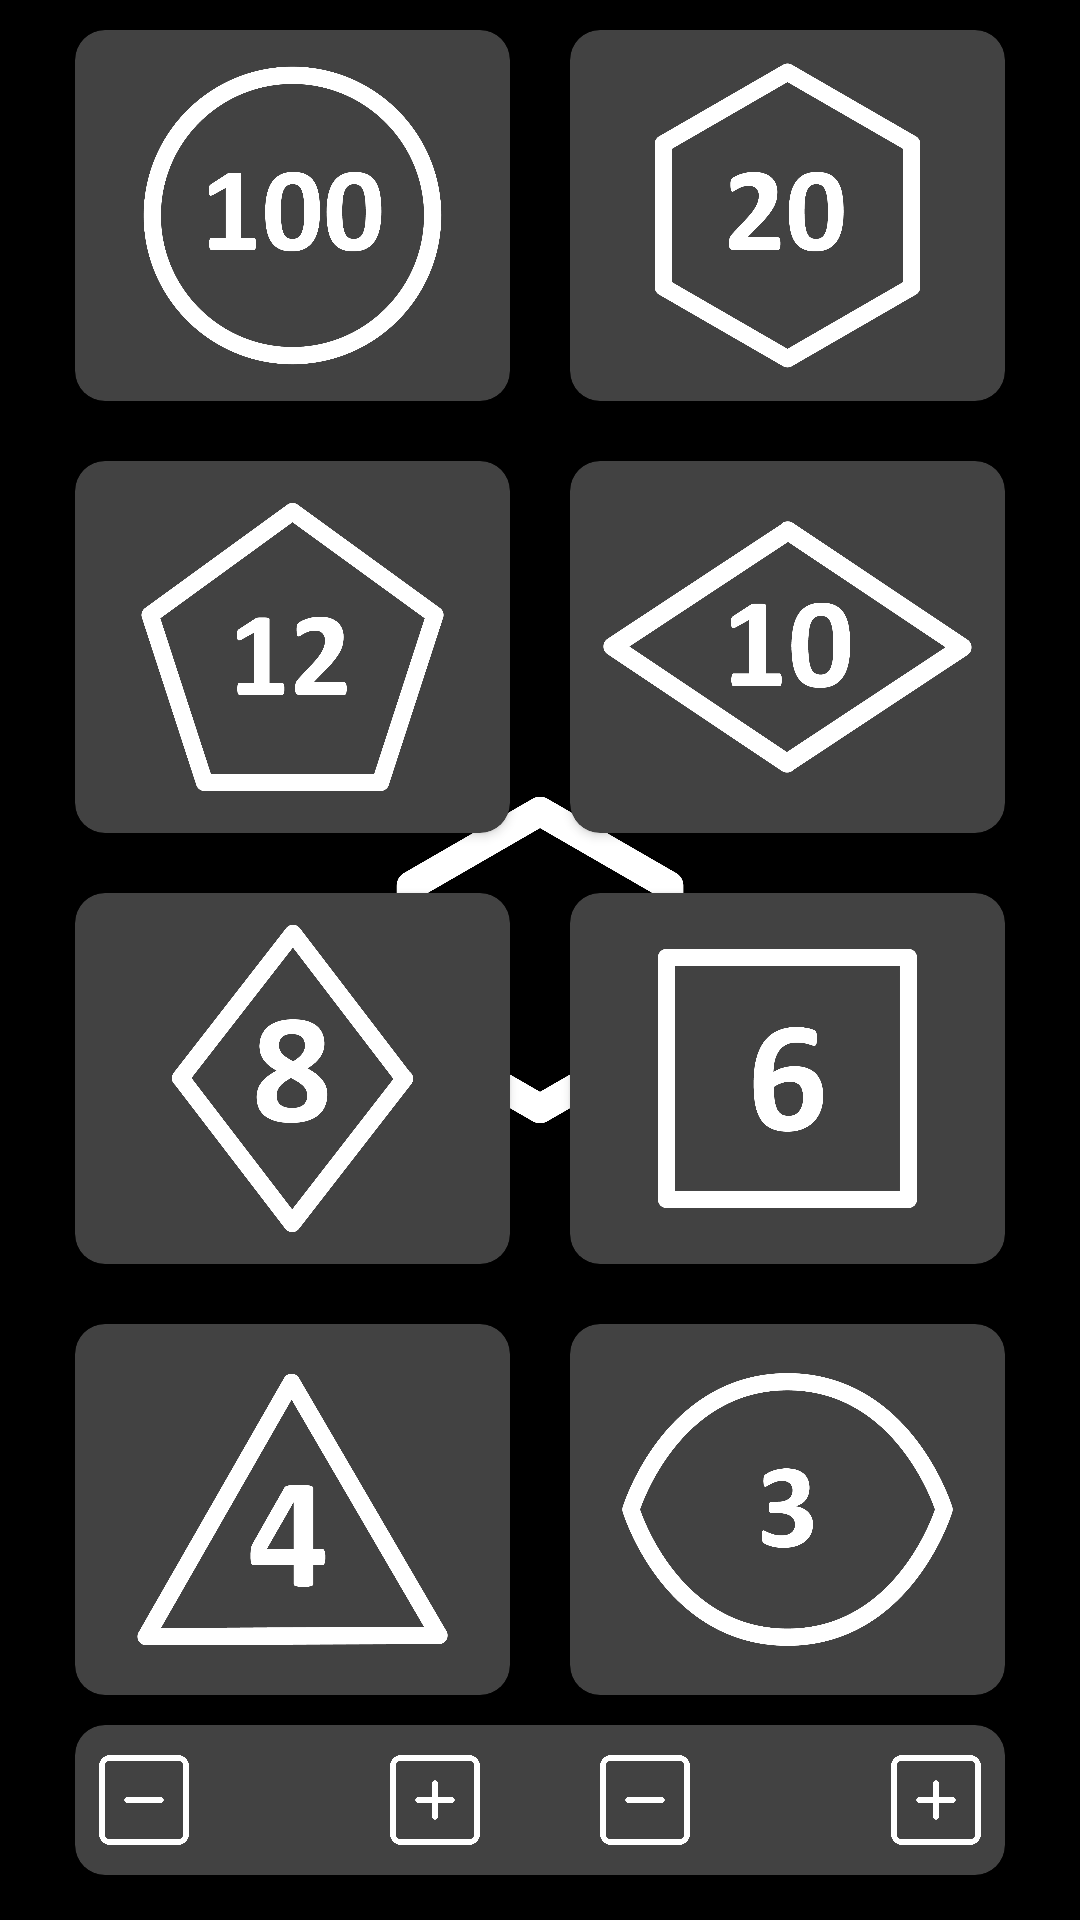

Where to tap for icons on this 1080*1920 app screen, as [x,y]:
invertedminus: [144,1800], [645,1800]
invertedplus: [435,1800], [936,1800]
